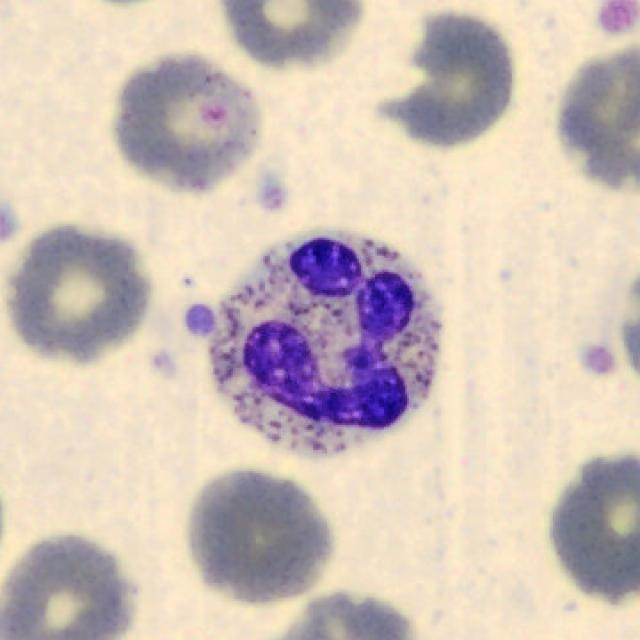Neutrofilo segmentado: (188, 226, 441, 455)
